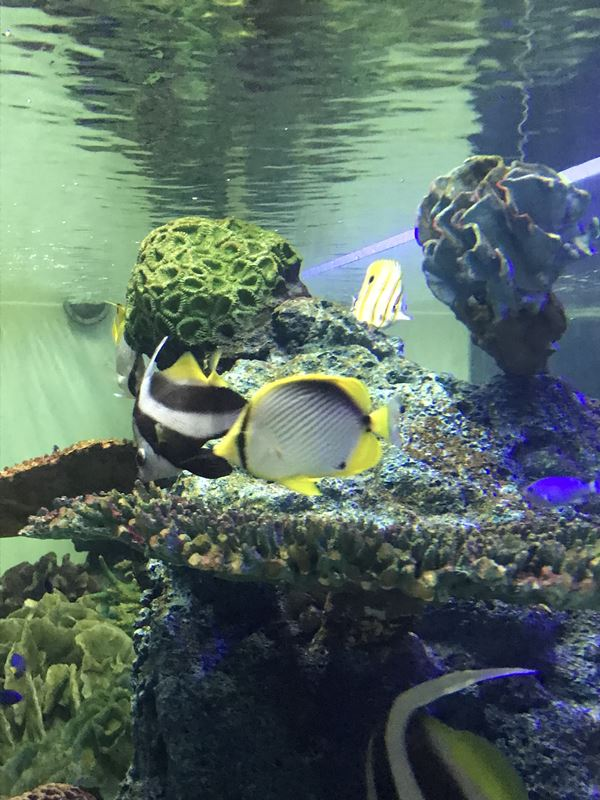Black-backed butterflyfish: (206, 364, 417, 507)
